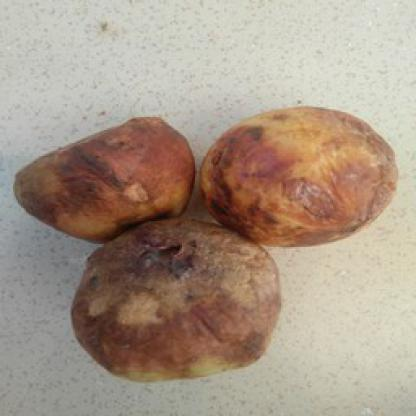guava_rotten: (68, 216, 284, 387), (197, 106, 400, 248), (13, 115, 195, 238)
